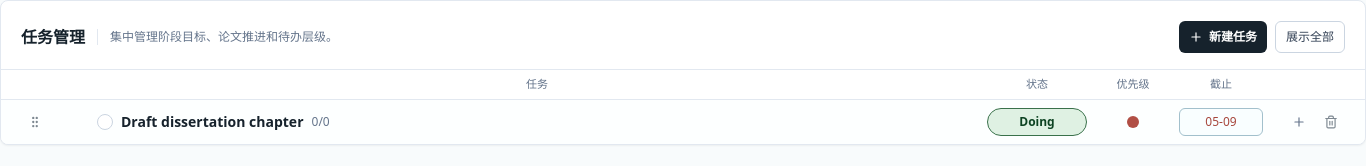
Test: TaskManager › cancels a title edit with Escape
The image size is (1366, 166).
Click the button "Draft dissertation chapter" at (212, 122), box [121,112,304,132]
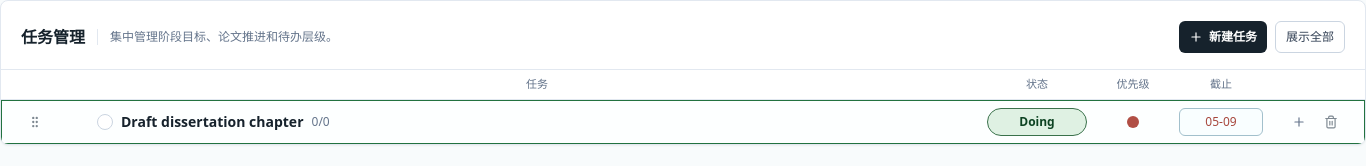
Click the button "Draft dissertation chapter" at (212, 122), box [121,112,304,132]
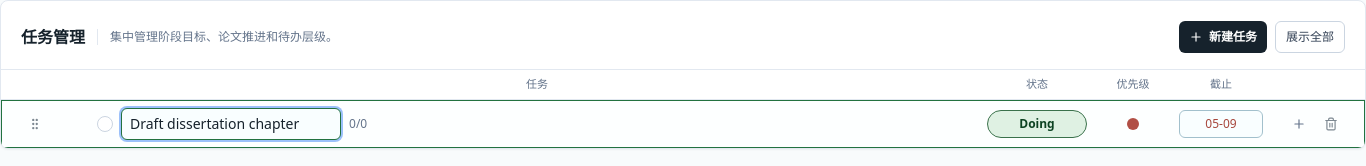
Replace the text in the field named "Edit title for Draft dissertation chapter" with "Do not save" at (231, 124), box [121,108,341,140]
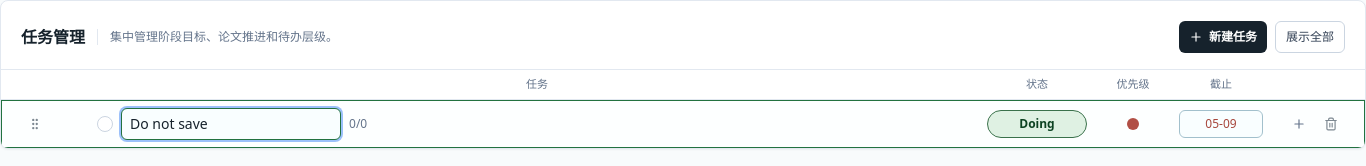
Press Escape in the field named "Edit title for Draft dissertation chapter", box [121,108,341,140]
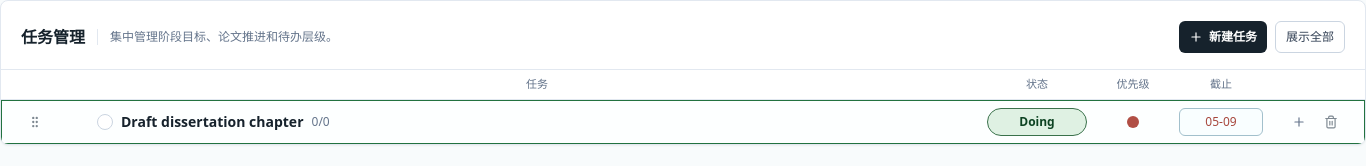
Expected: the button "Draft dissertation chapter" is shown, [121,112,304,132]
